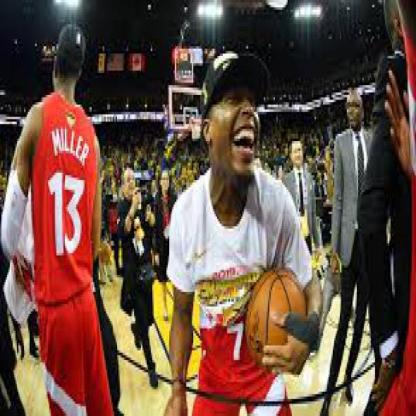basketball: (245, 268, 307, 372)
